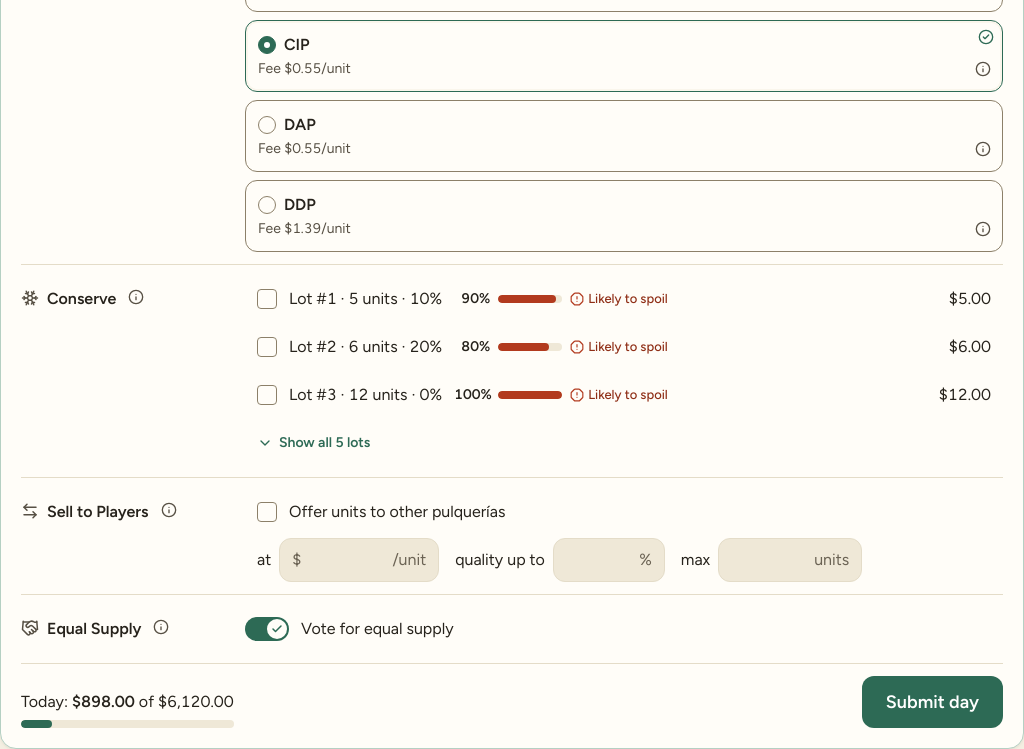
Test case: conserve list: three lots, then Show all (spec 13.7) › Show all lists every lot and becomes Hide; Hide goes back to three
The image size is (1024, 749).
(page scrolled)
Step 1. Click the button "Show all 5 lots" → {"x": 314, "y": 443}, box [245, 421, 382, 465]
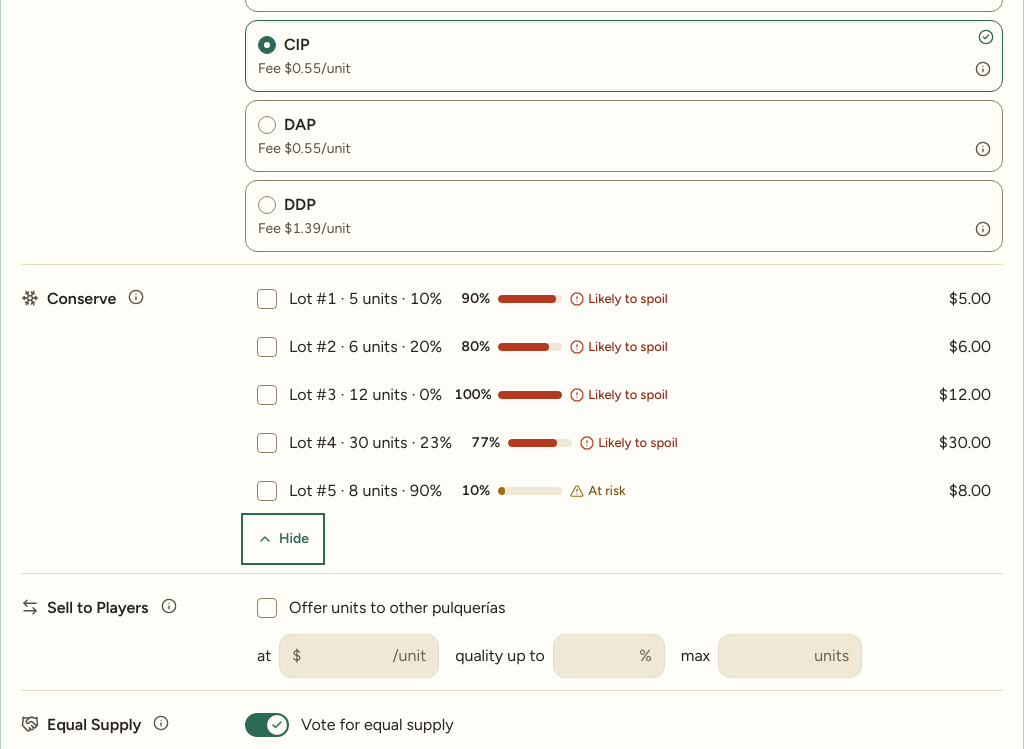
Expected: the checkbox labelled "Lot #4 · 30 units · 23% 77% Likely to spoil $30.00" is shown, [257, 433, 991, 453]
Expected: the checkbox labelled "Lot #5 · 8 units · 90% 10% At risk $8.00" is shown, [257, 481, 991, 501]
Expected: the button "Hide" is expanded
Step 2. Click the button "Hide" → {"x": 283, "y": 539}, box [245, 517, 321, 561]
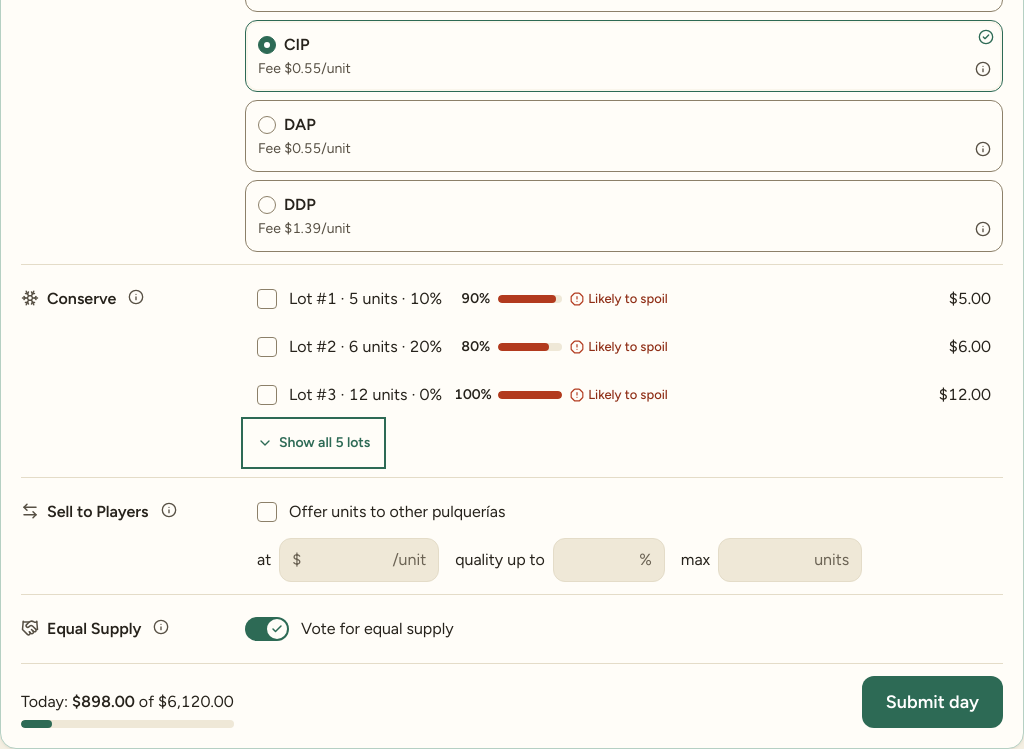
Expected: the text "Lot #4 ·" is gone
Expected: the button "Show all 5 lots" is shown, [245, 421, 382, 465]
